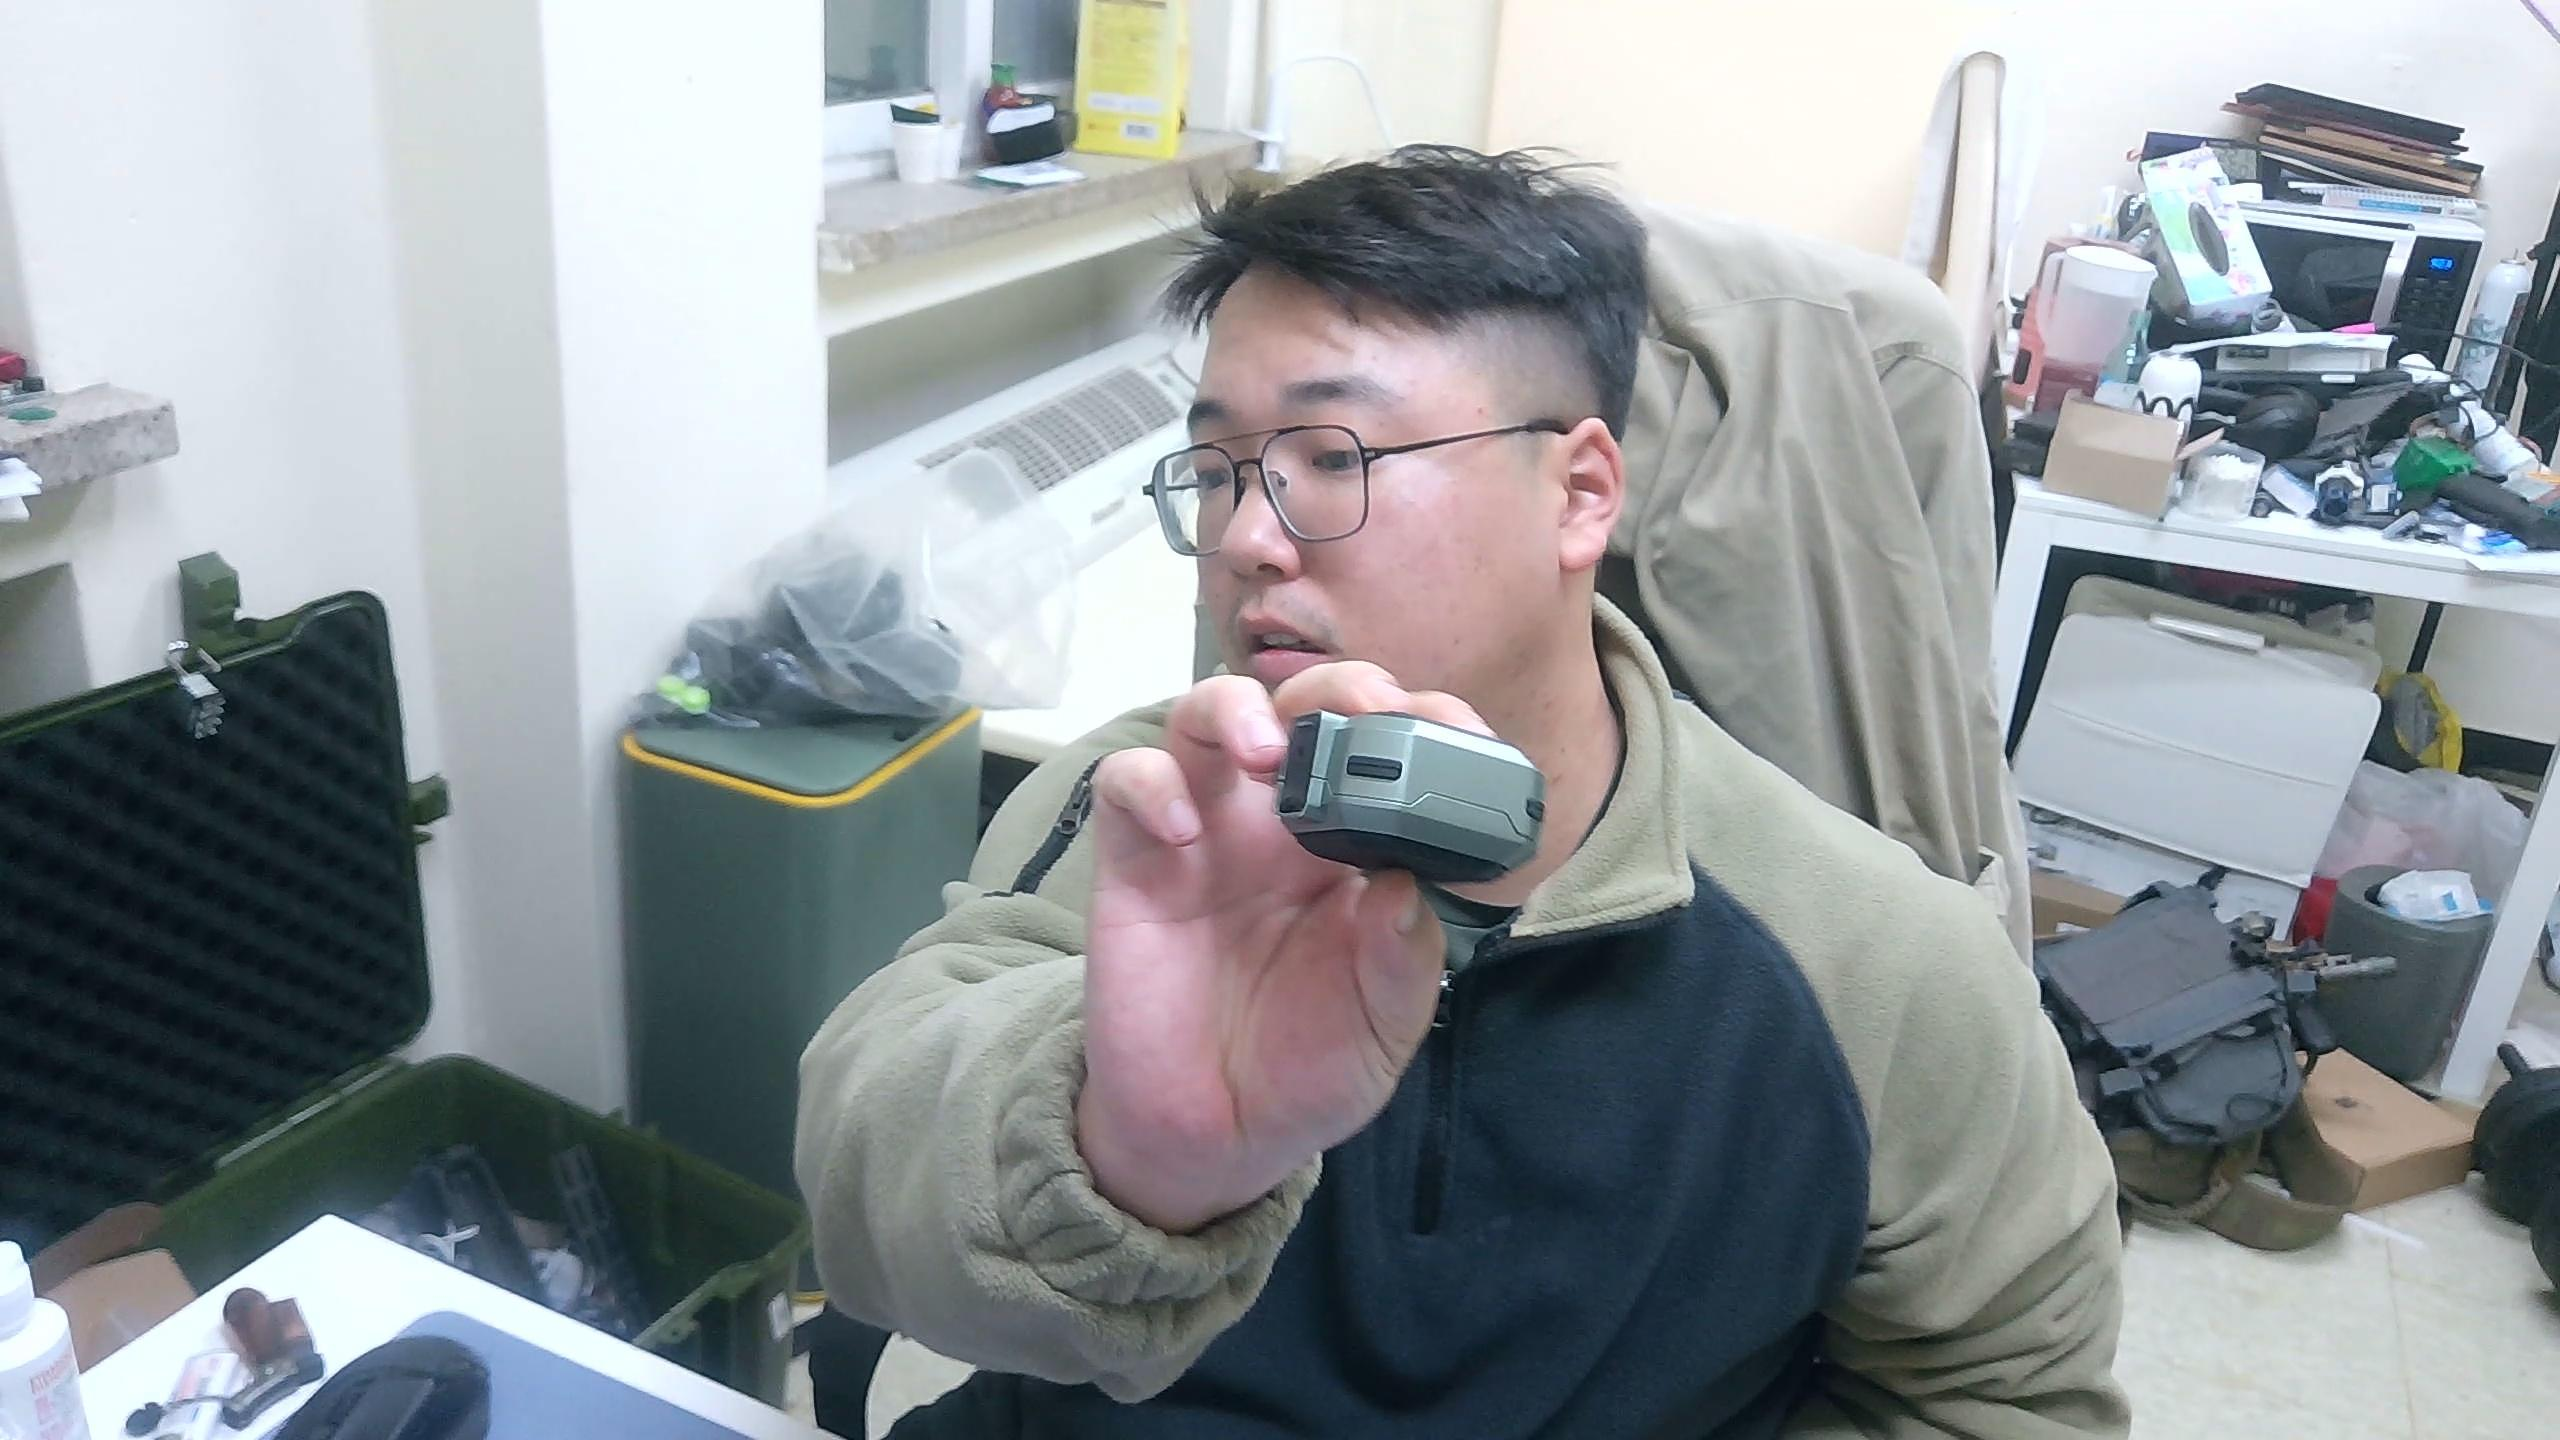blue_pliers: (1273, 707, 1551, 884)
